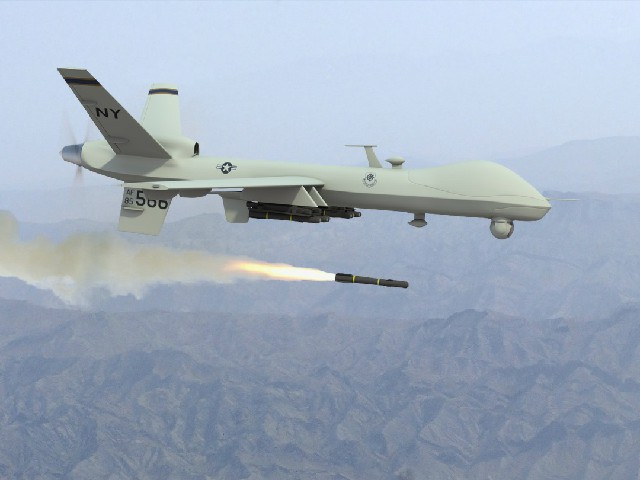maybay_khongnguoilai: (50, 70, 555, 236)
